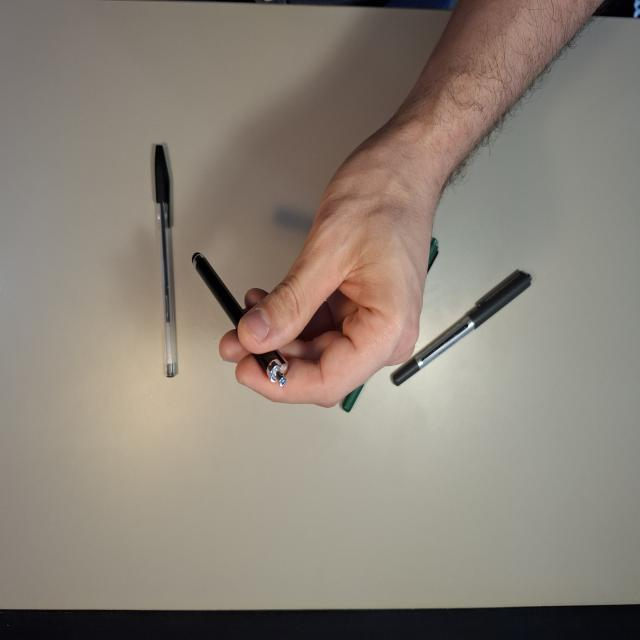glove_off: (216, 107, 462, 411)
